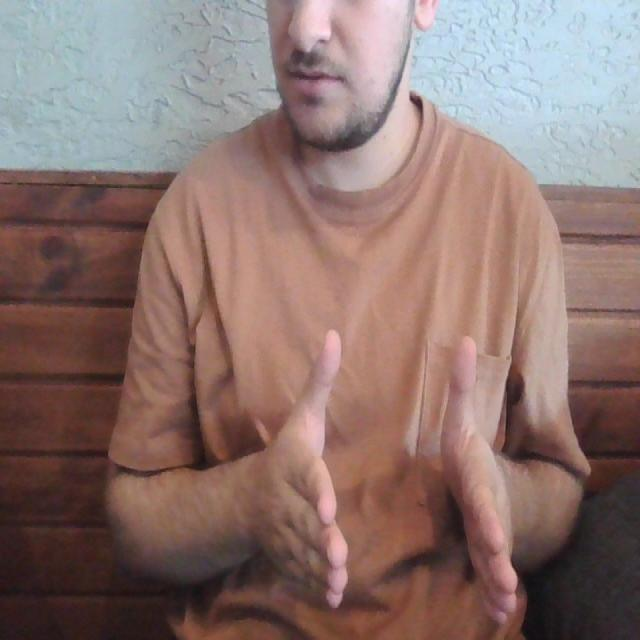Nasil: (240, 299, 536, 640)
